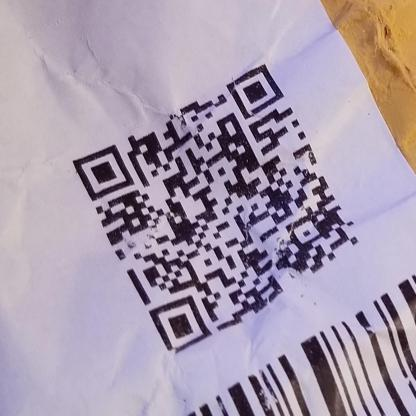barcode: (179, 268, 416, 416)
qr: (69, 60, 365, 359)
